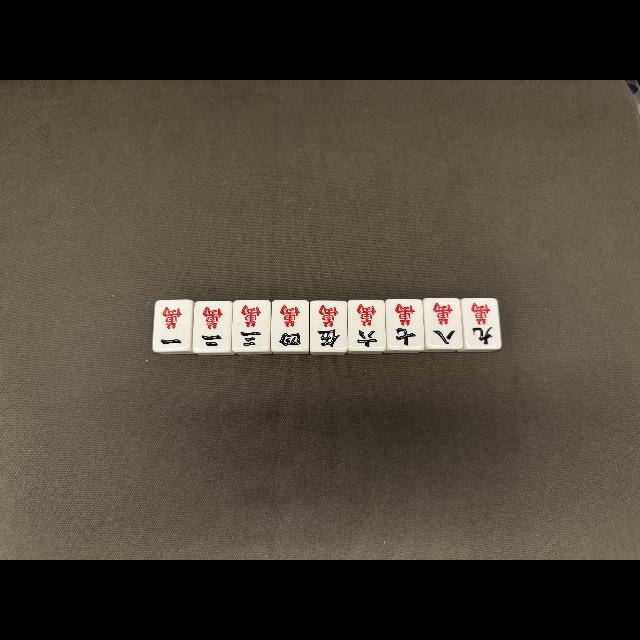c1: (154, 302, 190, 351)
c2: (194, 303, 230, 352)
c3: (233, 302, 269, 351)
c4: (272, 300, 308, 350)
c5: (310, 302, 346, 351)
c6: (350, 300, 384, 350)
c7: (386, 299, 424, 349)
c8: (426, 298, 460, 348)
c9: (465, 300, 499, 348)
